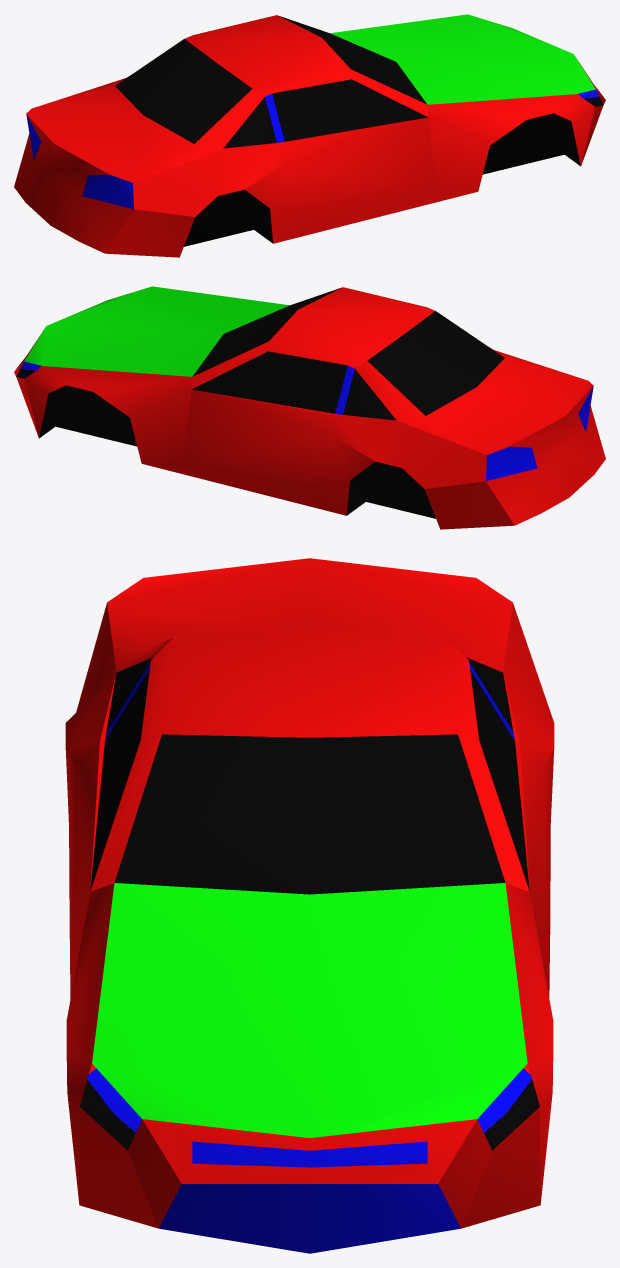
Rendered from coupe-jdm-lod2.glb.
3 renders of one model, top to bottom at view 1: azimuth 30°, elevation 25°; view 2: azimuth 150°, elevation 25°; view 3: azimuth 270°, elevation 25°, orthographic. The views are drawn at different scales.
Visible parts, largest first — view 1: body; view 2: body; view 3: body.
Boxes of the visible parts, box(x1,y1,x2,y2) form: body: box(14, 14, 605, 257); body: box(14, 286, 605, 529); body: box(65, 558, 554, 1253).
Bounding box in the file's own units: 5.42 × 1.36 × 2.19.
1 material, 1 textured.
